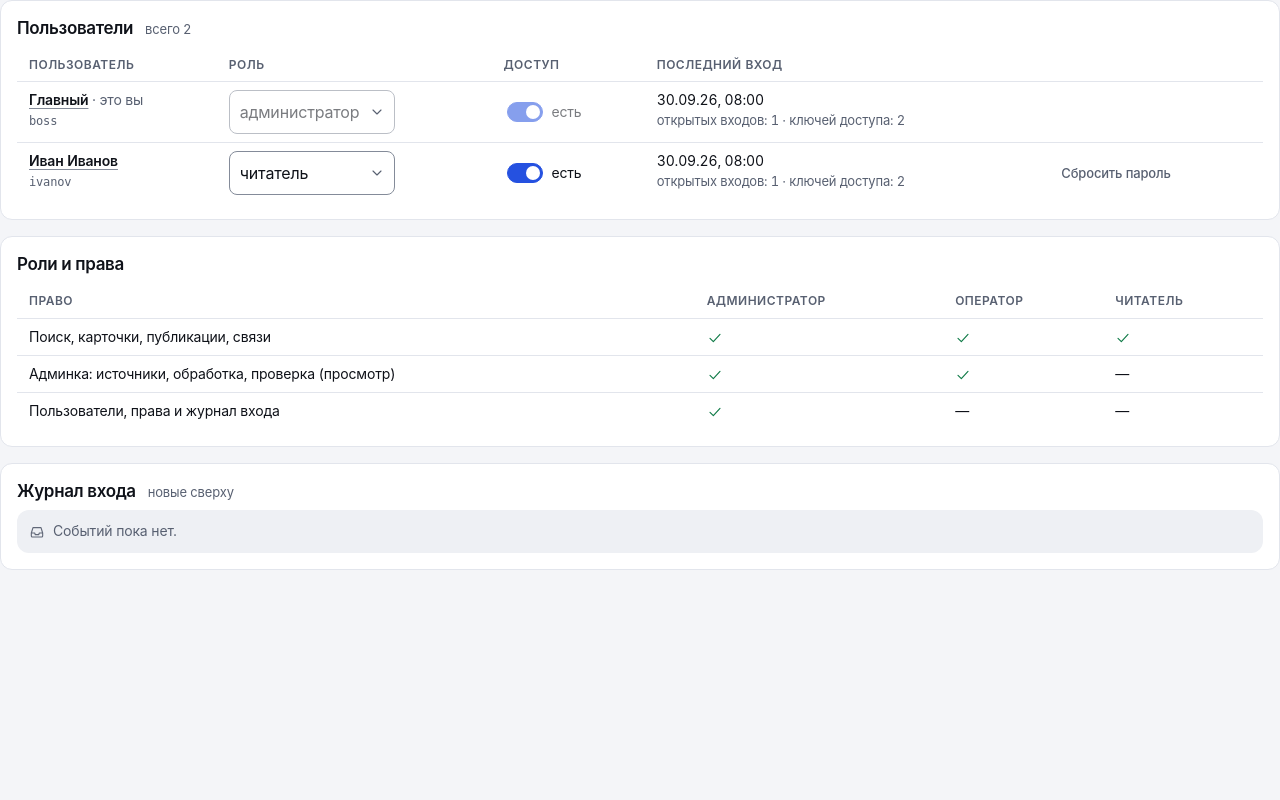
экран «Пользователи» › смена роли — только после подтверждения; отказ ничего не отправляет
Select "оператор" in the dropdown named "Роль: Иван Иванов" at coordinates (312, 173), box [229,151,395,195]
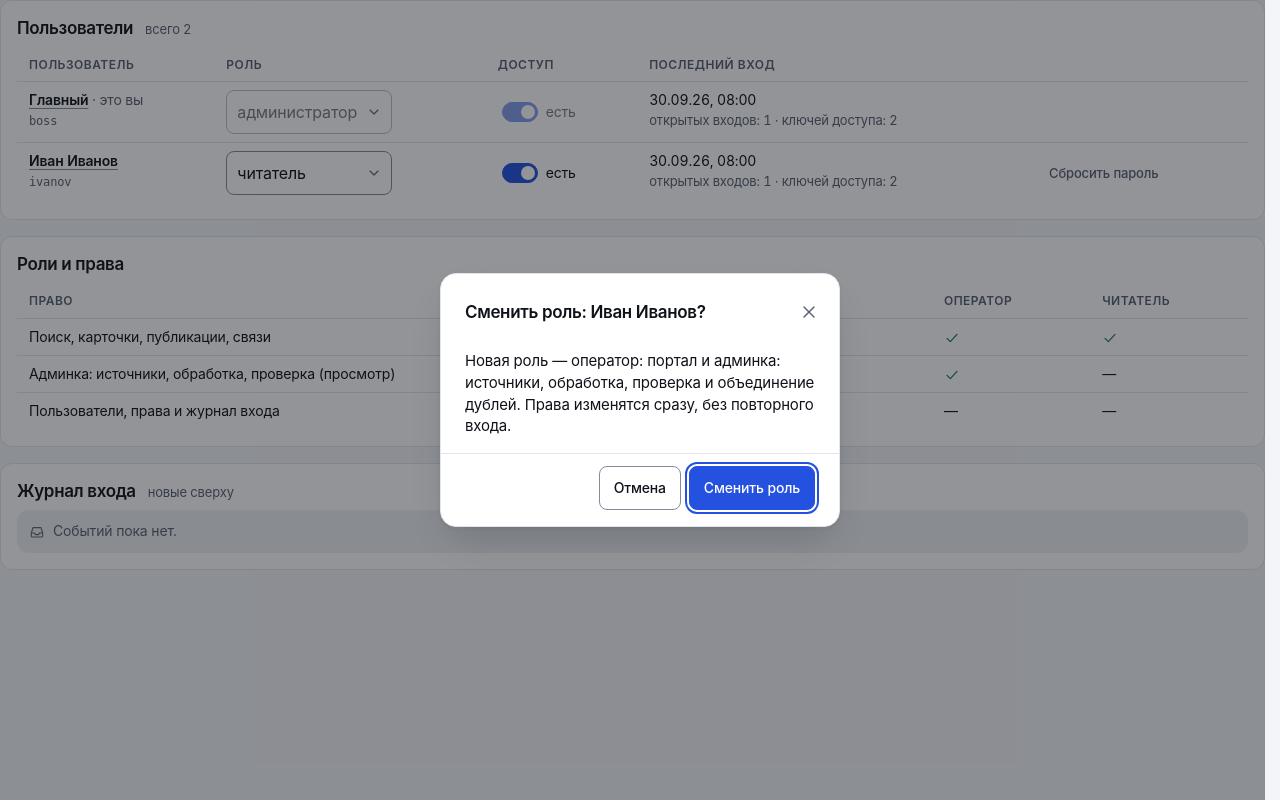
Check: the dialog "Сменить роль: Иван Иванов?" shows "оператор", box [465,351,814,435]
Click the button "Отмена" at coordinates (640, 488), box [599,466,681,510]
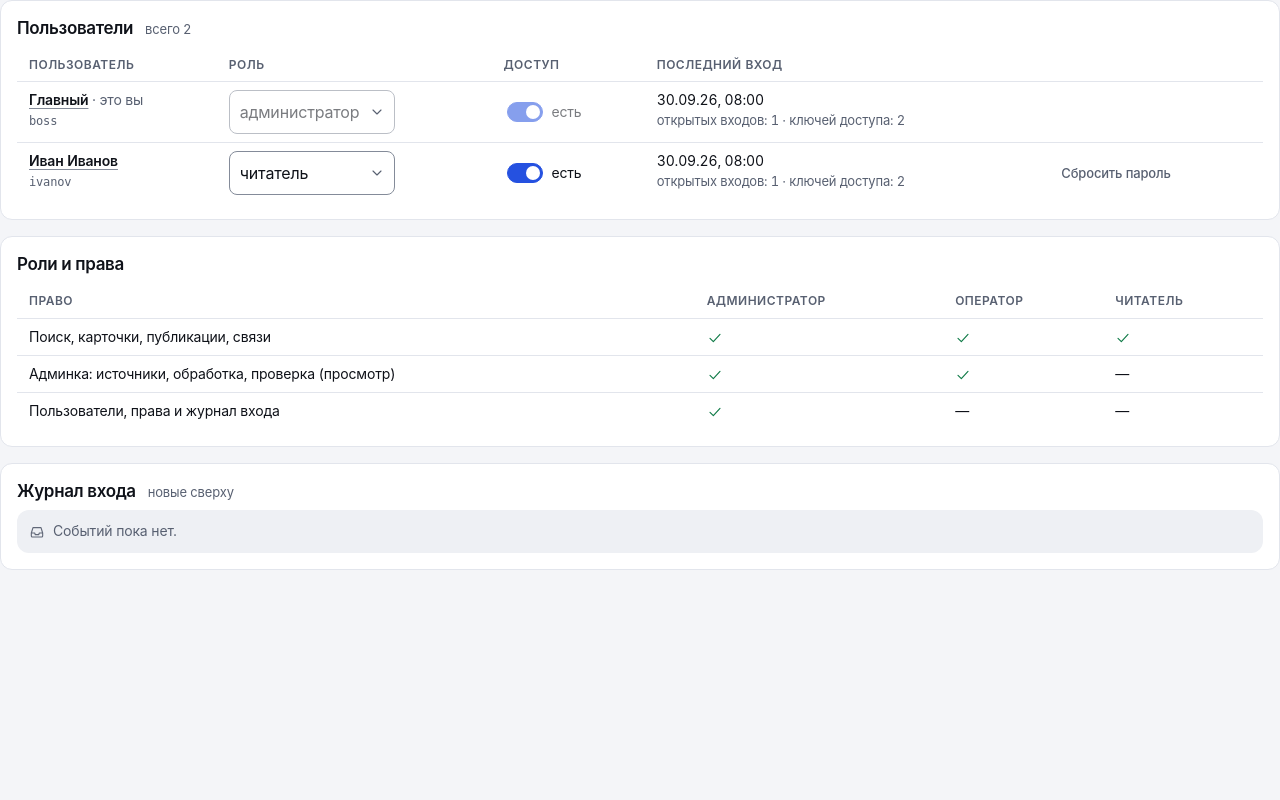
Check: the dialog is gone
Select "оператор" in the dropdown named "Роль: Иван Иванов" at coordinates (312, 173), box [229,151,395,195]
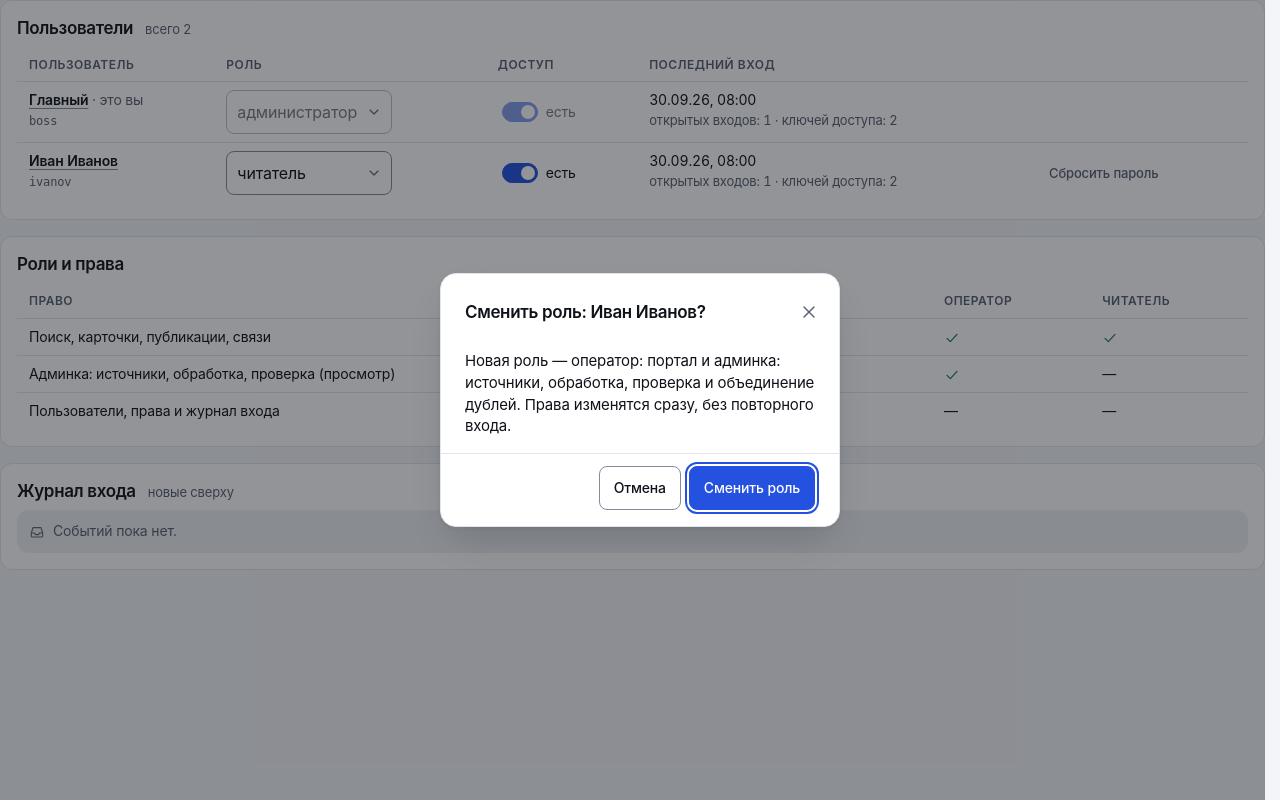
Click the button "Сменить роль" at coordinates (752, 488), box [689,466,815,510]
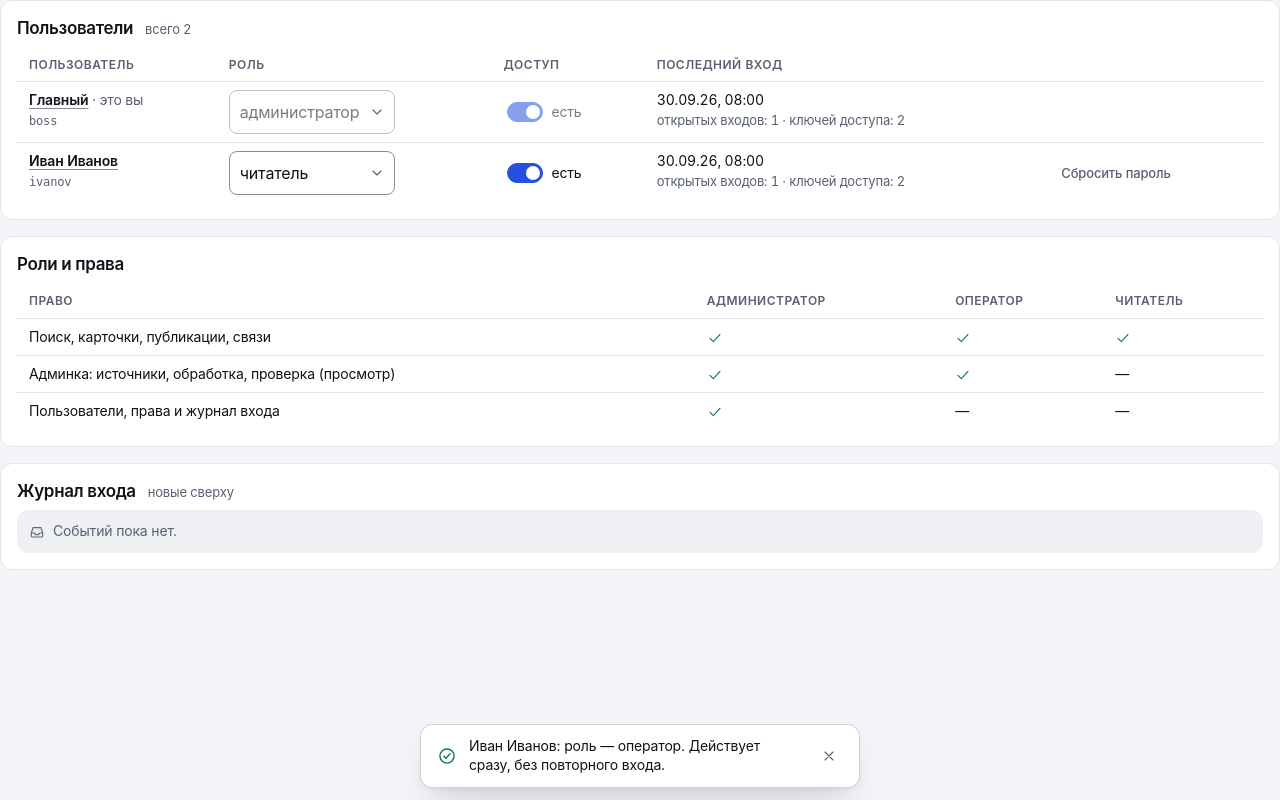
Check: the text "Иван Иванов: роль — оператор" is shown, box [469,737,760,773]
